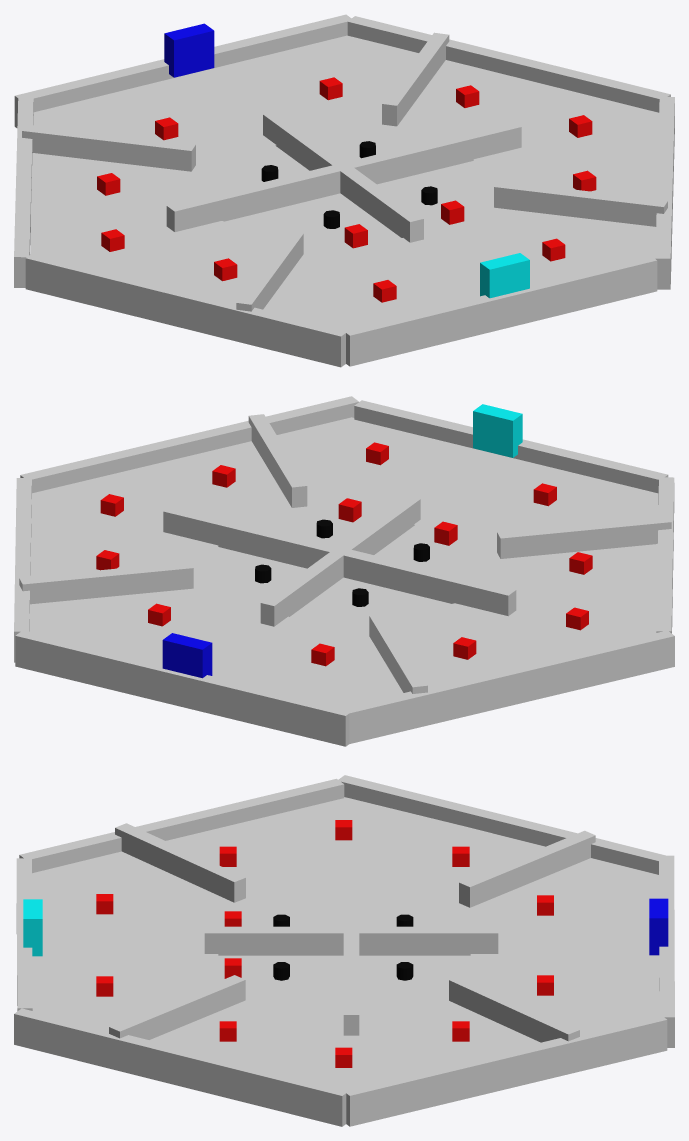
File: Level2_b7.fbx
The picture shows the model from 3 angles, top to bottom: view 1: azimuth 30°, elevation 25°; view 2: azimuth 150°, elevation 25°; view 3: azimuth 270°, elevation 25°; orthographic projection.
Visible parts, largest first — view 1: Cylinder001, Box034, Box038, Box040, Box042, Box037, Box039, Box041, Box043, Box046, Box036, Box035 (+4 smaller); view 2: Cylinder001, Box039, Box035, Box040, Box042, Box036, Box038, Box041, Box045, Box044, Box046, Box034 (+4 smaller); view 3: Cylinder001, Box040, Box036, Box037, Box041, Box035, Box034, Box043, Box044, Box046, Box045, Box042 (+4 smaller).
Part boxes in pixels (box(x1,y1,x2,y2)): Cylinder001: box(31, 35, 659, 329); Box034: box(25, 252, 347, 367); Box038: box(343, 255, 657, 366); Box040: box(220, 128, 473, 251); Box042: box(166, 121, 521, 231); Box037: box(347, 16, 670, 112); Box039: box(14, 14, 351, 127); Box041: box(263, 111, 423, 242); Box043: box(22, 124, 195, 171); Box046: box(494, 180, 667, 226); Box036: box(655, 97, 674, 289); Box035: box(14, 95, 33, 287); Cylinder001: box(29, 417, 658, 707); Box039: box(15, 630, 352, 746); Box035: box(336, 631, 674, 743); Box040: box(218, 509, 469, 629); Box042: box(163, 505, 516, 616); Box036: box(20, 396, 358, 493); Box038: box(354, 400, 668, 504); Box041: box(260, 495, 420, 626); Box045: box(19, 561, 193, 604); Box044: box(497, 515, 671, 558); Box046: box(248, 414, 307, 507); Box034: box(656, 477, 674, 633); Cylinder001: box(32, 797, 659, 1089); Box040: box(218, 889, 470, 1011); Box036: box(14, 1008, 349, 1126); Box037: box(343, 1014, 667, 1126); Box041: box(204, 926, 498, 955); Box035: box(338, 775, 672, 874); Box034: box(19, 778, 344, 873); Box043: box(459, 830, 595, 907); Box044: box(115, 823, 245, 902); Box046: box(109, 975, 245, 1039); Box045: box(449, 975, 579, 1042); Box042: box(343, 846, 359, 1035).
Size of the model in its own units: 582 by 50.28 by 507.
